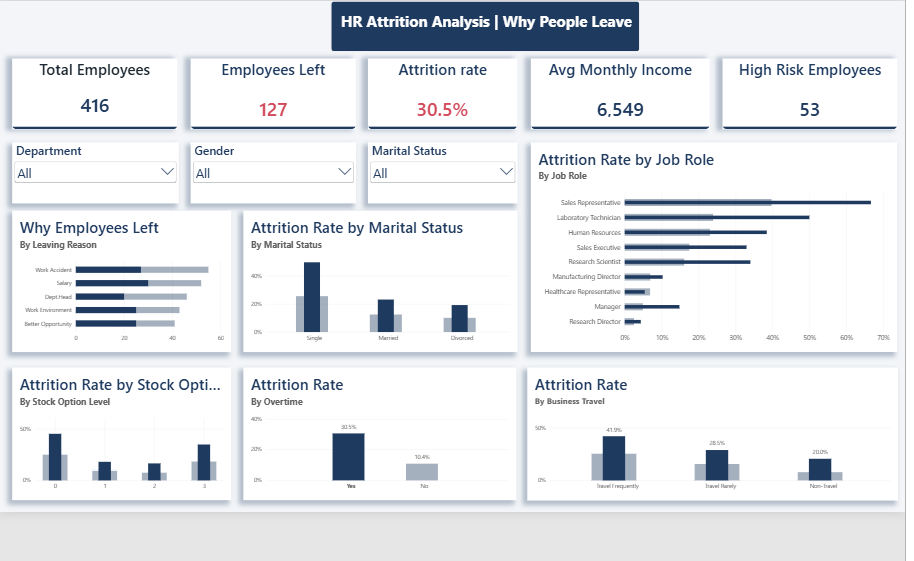

Layout of this report page (visuals, bound fields, positions):
{"tool":"powerbi","page":{"name":"Why People Leave","canvas":[1920,1080],"ordinal":1},"visuals":[{"type":"shape","box":[702.5,0,654.5,107.5],"z":0},{"type":"textbox","box":[719.8,21.1,623.8,59.5],"z":1000},{"type":"slicer","fields":{"Values":["Employees.Department"]},"box":[27.9,299.5,352.8,129.4],"z":2000},{"type":"slicer","fields":{"Values":["Employees.Gender"]},"box":[406.1,299.5,350.3,129.4],"z":3000},{"type":"slicer","fields":{"Values":["Employees.Marital Status"]},"box":[781.8,299.5,317.3,129.4],"z":4000},{"type":"cardVisual","title":"Total Employees","fields":{"Data":["_Measures.Total Employees Label"]},"box":[27.1,123,350,150],"z":5000},{"type":"cardVisual","title":"Employees Left","fields":{"Data":["_Measures.Employees Left"]},"box":[405,122.8,350,150],"z":6000},{"type":"cardVisual","title":"Attrition rate","fields":{"Data":["_Measures.Attrition Rate"]},"box":[782.4,123,316.8,150],"z":7000},{"type":"cardVisual","title":"Avg Monthly Income","fields":{"Data":["_Measures.Avg Monthly Income Label"]},"box":[1126.9,123,379.3,150],"z":8000},{"type":"cardVisual","title":"High Risk Employees","fields":{"Data":["_Measures.High Risk Current Employees"]},"box":[1533.8,123,371,150],"z":9000},{"type":"clusteredColumnChart","title":"Attrition Rate","fields":{"Category":["Employees.Business Travel"],"Y":["_Measures.Attrition Rate"]},"box":[517.5,772.5,582.5,280],"z":12000},{"type":"clusteredColumnChart","title":"Attrition Rate","fields":{"Category":["Employees.Overtime"],"Y":["_Measures.Attrition Rate"]},"box":[27.5,772.5,465,280],"z":14000},{"type":"clusteredColumnChart","fields":{"Category":["Employees.Marital Status"],"Y":["_Measures.Attrition Rate"]},"box":[517.8,444.2,581.2,299.5],"z":14001},{"type":"clusteredColumnChart","fields":{"Category":["Employees.Stock Option Level"],"Y":["_Measures.Attrition Rate"]},"box":[1127.5,772.5,777.5,280],"z":14002},{"type":"clusteredBarChart","fields":{"Category":["Employees.Job Role"],"Y":["_Measures.Attrition Rate"]},"box":[1126.9,299.5,776.7,444.2],"z":14003},{"type":"clusteredBarChart","title":"Why Employees Left","fields":{"Category":["Employees.Leaving Reason"],"Y":["_Measures.Employees Left"]},"box":[27.9,444.2,464.5,299.5],"z":14004}]}

Visuals, with their boxes on the page's 1920x1080 design canvas (x1, y1, x2, y2). These are canvas units, not pixel positions in the 914x561 screenshot, which may show the page scaled, cropped or inside an application window:
shape: bbox(702, 0, 1357, 108)
textbox: bbox(720, 21, 1344, 81)
slicer - Employees.Department: bbox(28, 300, 381, 429)
slicer - Employees.Gender: bbox(406, 300, 756, 429)
slicer - Employees.Marital Status: bbox(782, 300, 1099, 429)
"Total Employees" cardVisual: bbox(27, 123, 377, 273)
"Employees Left" cardVisual: bbox(405, 123, 755, 273)
"Attrition rate" cardVisual: bbox(782, 123, 1099, 273)
"Avg Monthly Income" cardVisual: bbox(1127, 123, 1506, 273)
"High Risk Employees" cardVisual: bbox(1534, 123, 1905, 273)
"Attrition Rate" clusteredColumnChart: bbox(518, 772, 1100, 1052)
"Attrition Rate" clusteredColumnChart: bbox(28, 772, 492, 1052)
clusteredColumnChart - Employees.Marital Status x _Measures.Attrition Rate: bbox(518, 444, 1099, 744)
clusteredColumnChart - Employees.Stock Option Level x _Measures.Attrition Rate: bbox(1128, 772, 1905, 1052)
clusteredBarChart - Employees.Job Role x _Measures.Attrition Rate: bbox(1127, 300, 1904, 744)
"Why Employees Left" clusteredBarChart: bbox(28, 444, 492, 744)
